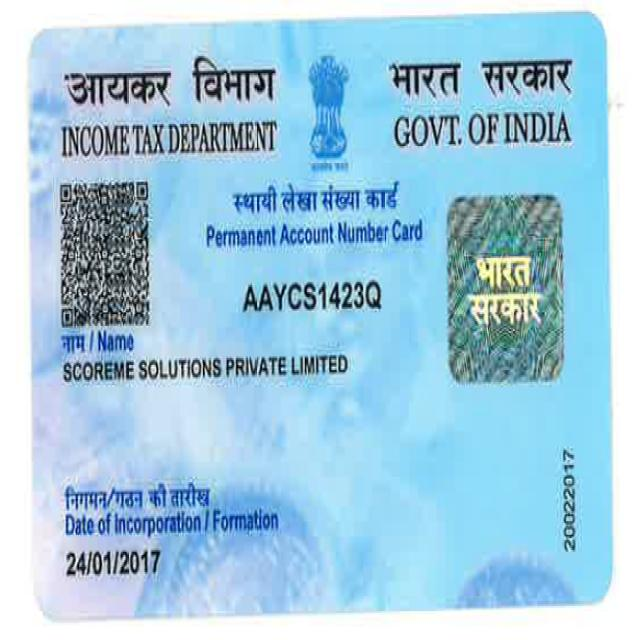pan_card: (35, 19, 608, 612)
